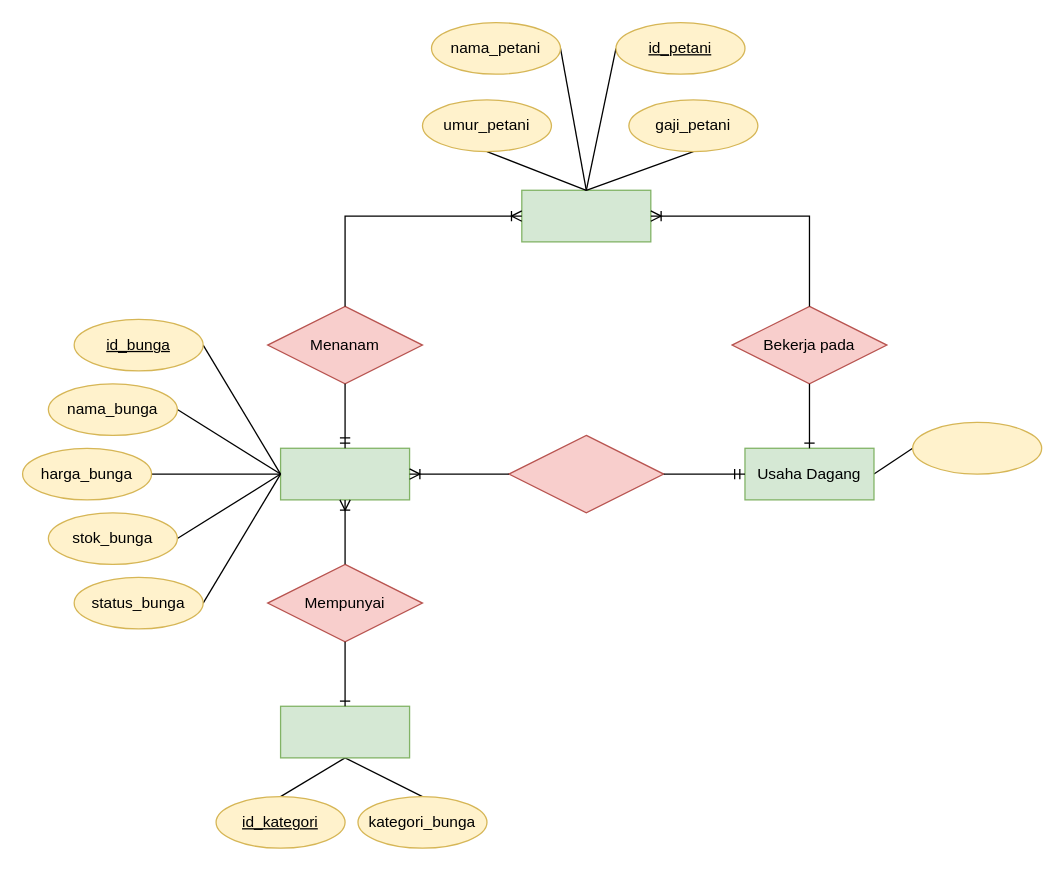
The diagram is 1064 pixels wide and 871 high, and some of its shapes have lost their labels. Here are the shapes that lost their labels. From the top down, the centre of each, then its label:
At (x=586, y=215): "Petani".
At (x=976, y=447): "usaha_dagang".
At (x=344, y=473): "Bunga".
At (x=586, y=473): "Disalurkan".
At (x=344, y=731): "Kategori Bunga".
